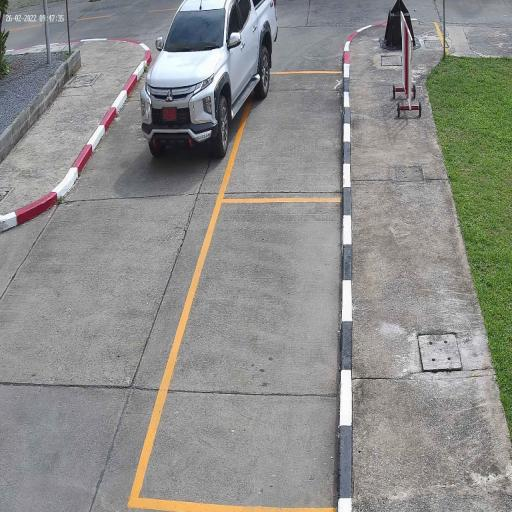car: (139, 0, 280, 161)
